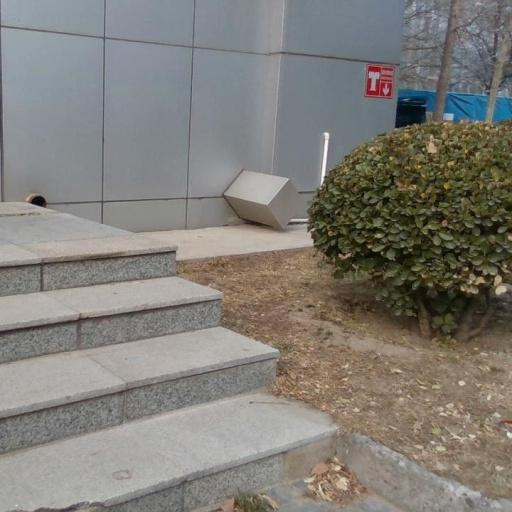stairs: (0, 203, 335, 511)
